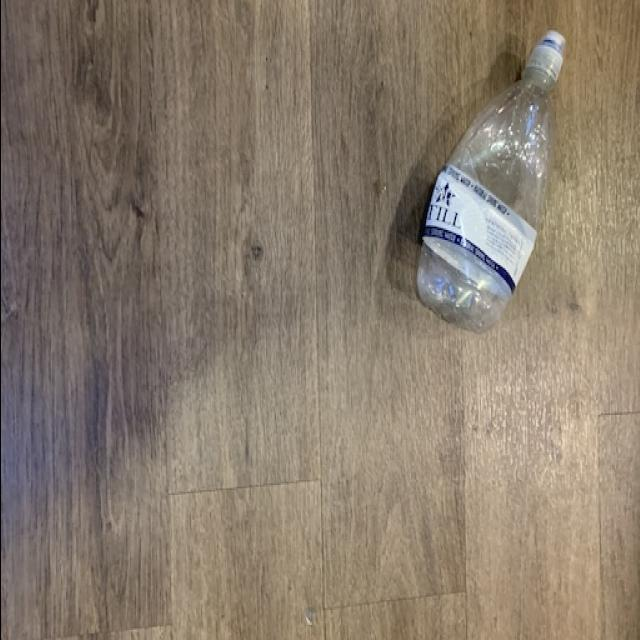litter: (408, 31, 566, 342)
